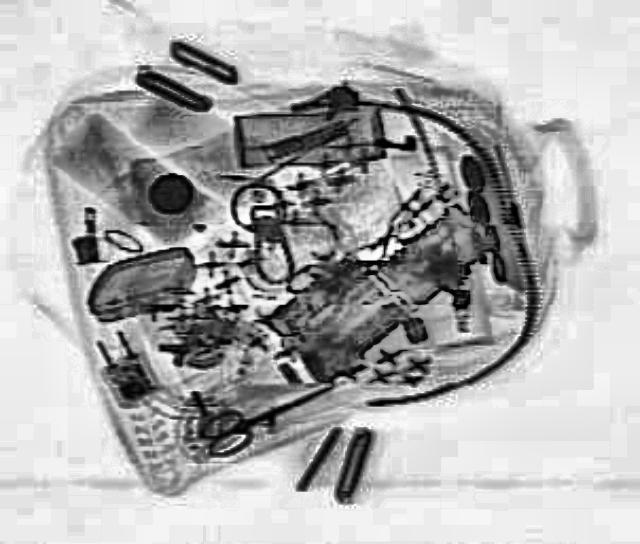Scissors: (183, 364, 344, 460)
